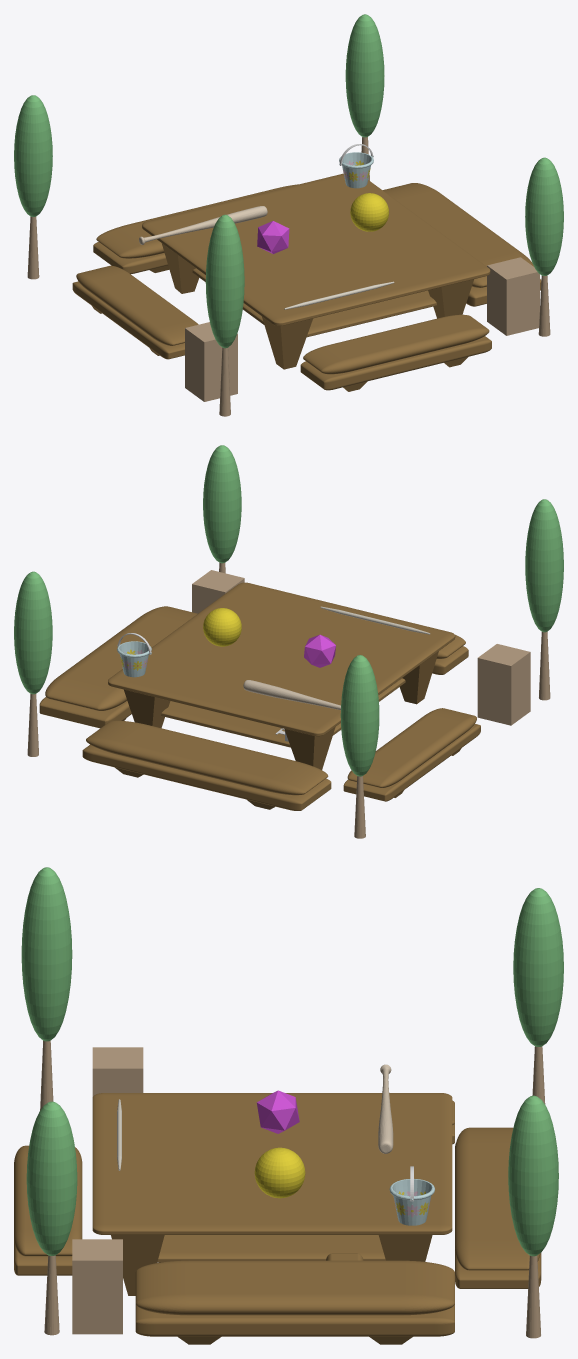
The model's file is franco2.gltf.
3 views of the same model, one above another, from view 1: azimuth 30°, elevation 25°; view 2: azimuth 150°, elevation 25°; view 3: azimuth 270°, elevation 25° (orthographic). The views are drawn at different scales.
Visible parts, largest first — view 1: Mesh_Mesh_head_geo.001_lambert2SG.001; view 2: Mesh_Mesh_head_geo.001_lambert2SG.001; view 3: Mesh_Mesh_head_geo.001_lambert2SG.001.
Part boxes in pixels (bbox=[...]): Mesh_Mesh_head_geo.001_lambert2SG.001: bbox=[14, 14, 563, 416]; Mesh_Mesh_head_geo.001_lambert2SG.001: bbox=[14, 445, 563, 838]; Mesh_Mesh_head_geo.001_lambert2SG.001: bbox=[14, 867, 563, 1344].
Bounding box in the file's own units: 222 × 113 × 217.
